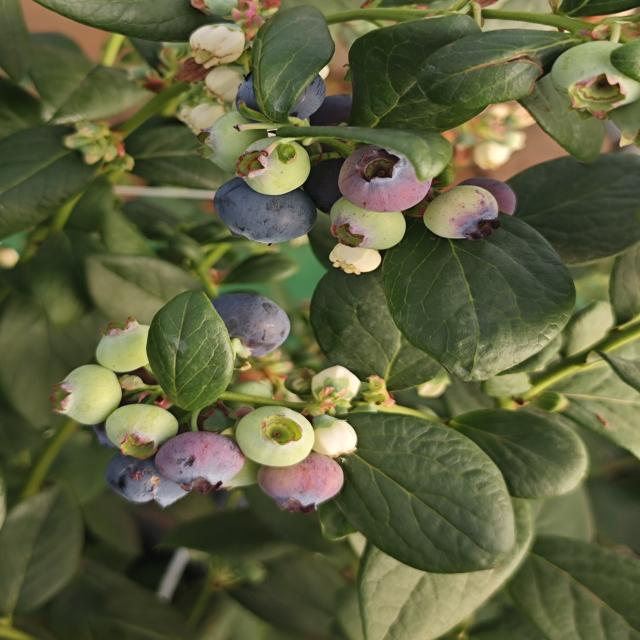ripe: (210, 175, 319, 247), (153, 429, 247, 496), (208, 290, 294, 360), (101, 452, 192, 514), (236, 62, 327, 123), (306, 91, 372, 126), (81, 419, 126, 450)
